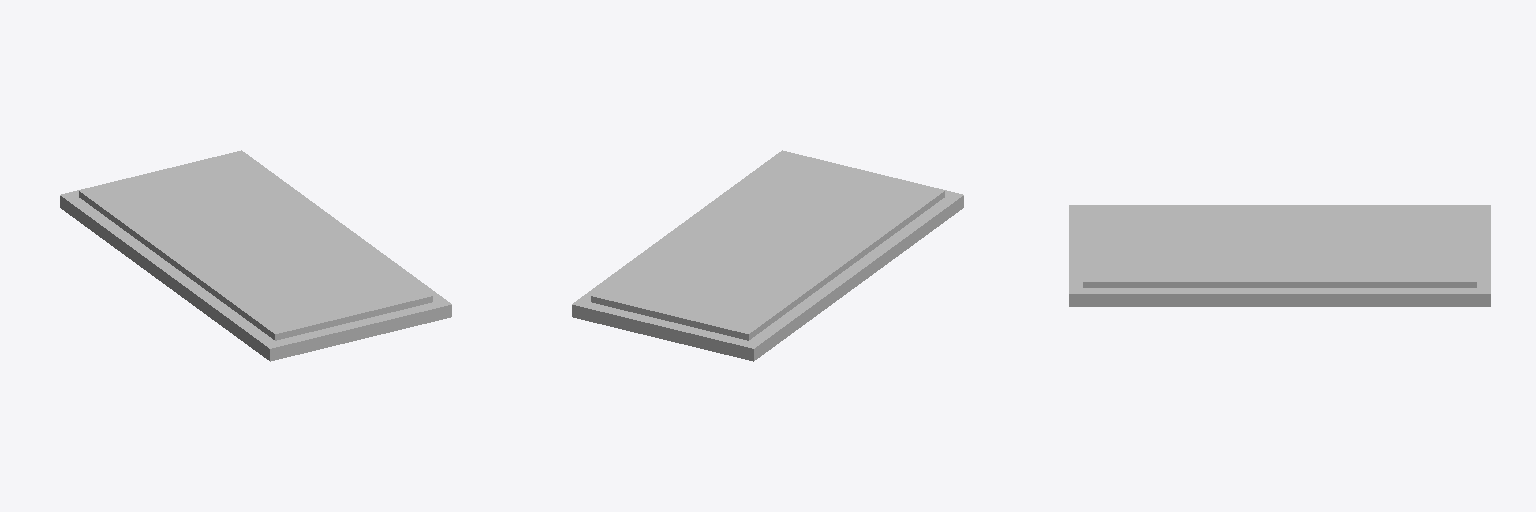
File: platform x2.obj
3 views of the same model, side by side, from view 1: azimuth 30°, elevation 25°; view 2: azimuth 150°, elevation 25°; view 3: azimuth 270°, elevation 25° (orthographic).
Visible parts, largest first — view 1: object 1; view 2: object 1; view 3: object 1.
Part boxes in pixels (x1,y1,x2,y2): object 1: (60, 150, 451, 361); object 1: (572, 150, 963, 361); object 1: (1069, 205, 1490, 306).
Bounding box in the file's own units: 3 × 0.4 × 6.